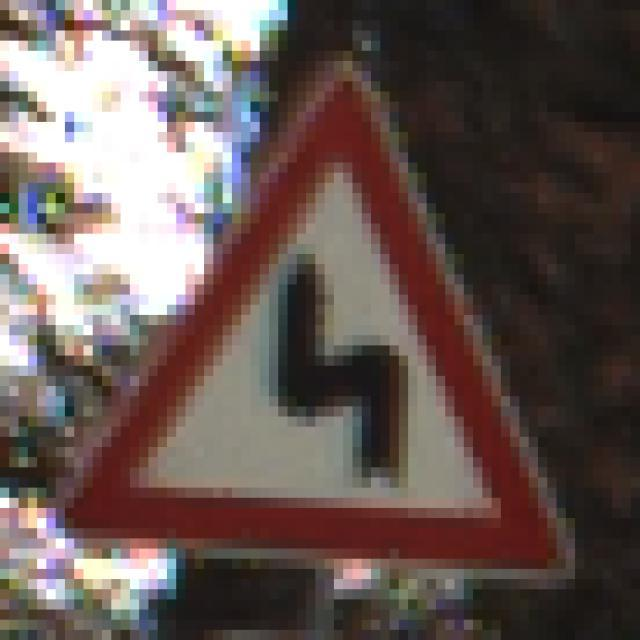left reverse bend: (54, 69, 580, 581)
